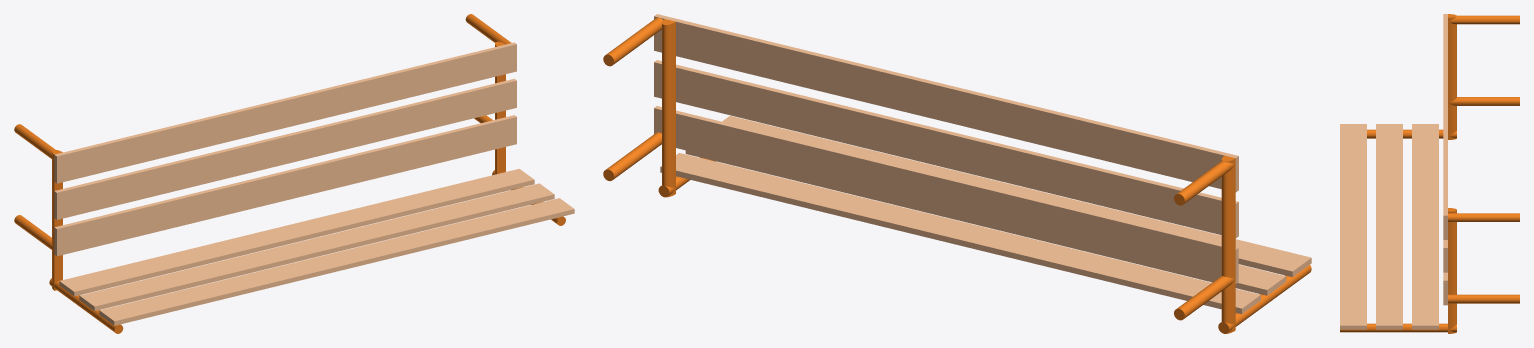
Rendered from tinker.obj.
3 renders of one model, left to right at view 1: azimuth 30°, elevation 25°; view 2: azimuth 150°, elevation 25°; view 3: azimuth 270°, elevation 25°, orthographic. The views are drawn at different scales.
Visible parts, largest first — view 1: group_0_16500122, group_0_16089887; view 2: group_0_16500122, group_0_16089887; view 3: group_0_16500122, group_0_16089887.
Boxes of the visible parts, left/top/right/bottom form: group_0_16500122: left=54, top=42, right=574, bottom=325; group_0_16089887: left=14, top=14, right=565, bottom=333; group_0_16500122: left=654, top=14, right=1311, bottom=314; group_0_16089887: left=603, top=17, right=1311, bottom=333; group_0_16500122: left=1340, top=14, right=1447, bottom=329; group_0_16089887: left=1340, top=14, right=1519, bottom=333.
Size of the model in its own units: 53.02 by 15 by 20.
